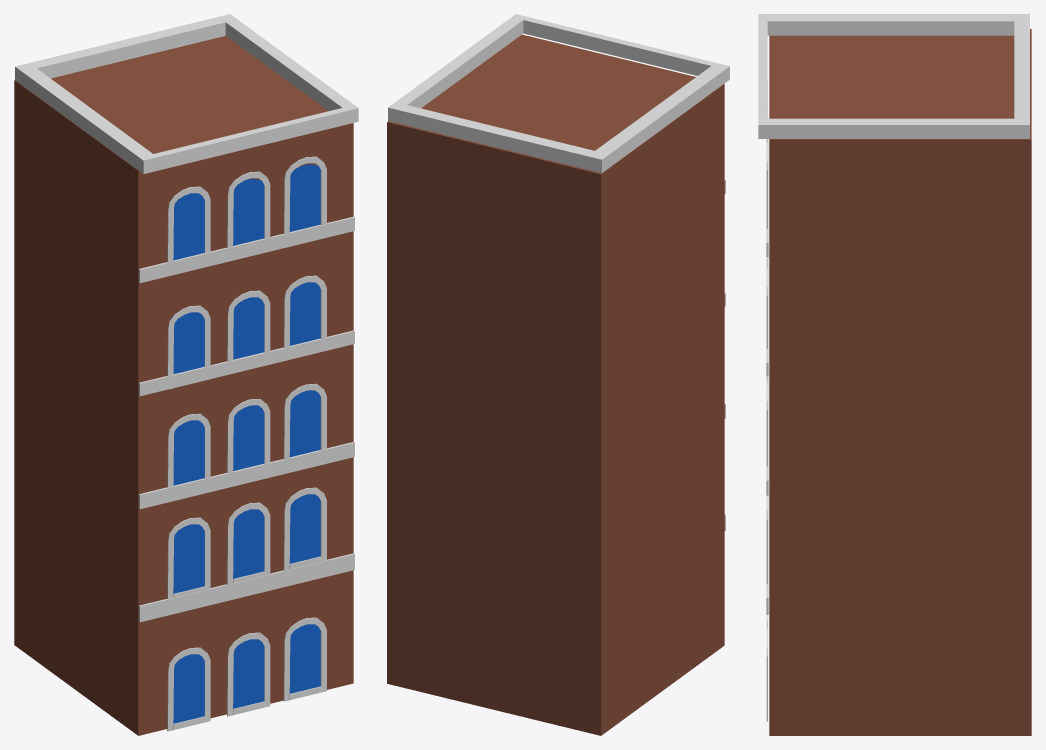
File: House 8.fbx
3 views of the same model, side by side, from view 1: azimuth 30°, elevation 25°; view 2: azimuth 150°, elevation 25°; view 3: azimuth 270°, elevation 25° (orthographic). The views are drawn at different scales.
Parts seen in each view (by area): view 1: House 8, House 8 Details, House 8 Windows; view 2: House 8, House 8 Details; view 3: House 8, House 8 Details.
Part boxes in pixels (x1,y1,x2,y2): House 8: (14,36,353,735); House 8 Details: (15,14,358,731); House 8 Windows: (170,164,320,723); House 8: (387,34,724,735); House 8 Details: (388,14,729,530); House 8: (769,29,1031,735); House 8 Details: (758,14,1029,721).
Size of the model in its own units: 200 by 516 by 208.
